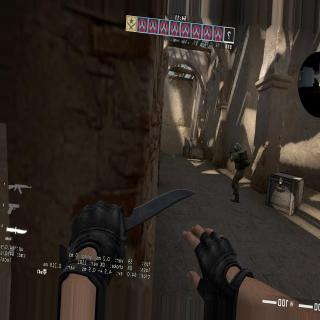CT-Body: (228, 141, 250, 203)
CT-Head: (234, 142, 241, 152)
